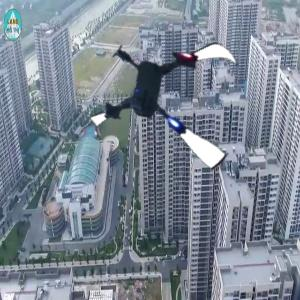drone: (91, 15, 256, 180)
